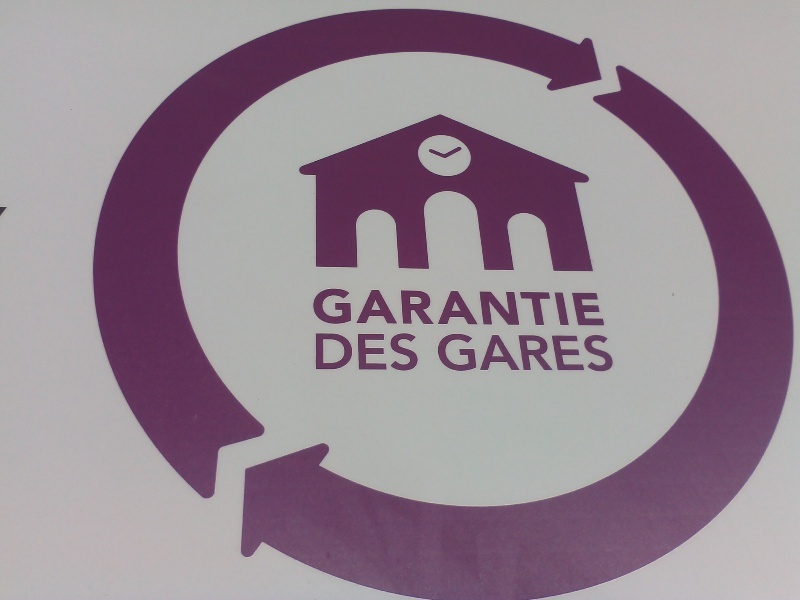text: (449, 331, 464, 373), (465, 331, 480, 373), (481, 331, 496, 373), (497, 331, 512, 373), (513, 331, 528, 373), (529, 331, 544, 373), (545, 331, 560, 373), (561, 331, 576, 373), (577, 331, 592, 373), (593, 331, 608, 373), (321, 287, 336, 328), (337, 287, 352, 328), (353, 287, 368, 328), (369, 287, 384, 328), (385, 287, 400, 328), (401, 287, 416, 328), (417, 287, 432, 328), (433, 287, 448, 328), (449, 287, 464, 328), (465, 287, 480, 328), (481, 287, 496, 328), (497, 287, 512, 328), (513, 287, 528, 328), (529, 287, 544, 328), (545, 287, 560, 328), (561, 287, 576, 328), (577, 287, 592, 328), (321, 332, 336, 371), (337, 332, 352, 371), (353, 332, 368, 371), (369, 332, 384, 371), (385, 332, 400, 371), (401, 332, 416, 371), (593, 287, 606, 328), (436, 331, 448, 373), (313, 287, 320, 328), (609, 331, 614, 373), (317, 332, 320, 371), (417, 332, 420, 371)
